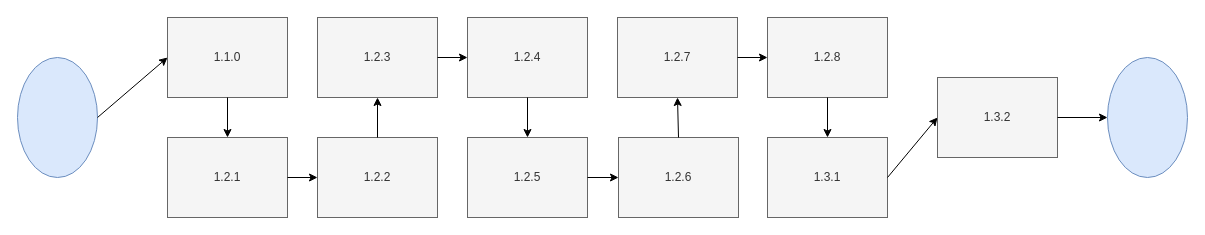
Image size: 1205x235. Some labels were removed from this diagram. The shapes that lost their labels are listed below. From the top down, each one's centre as x and y in pixels, then its label:
At (x=57, y=117): "Início do projeto".
At (x=1147, y=117): "Término do projeto".
